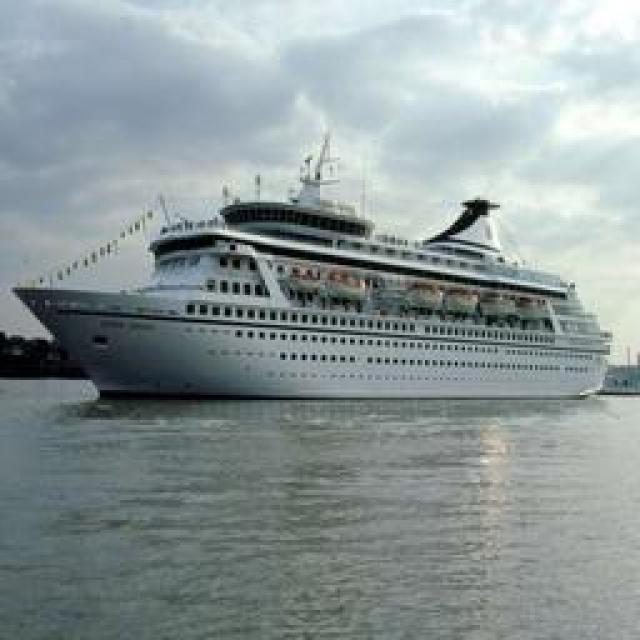Ship: (12, 165, 610, 403)
